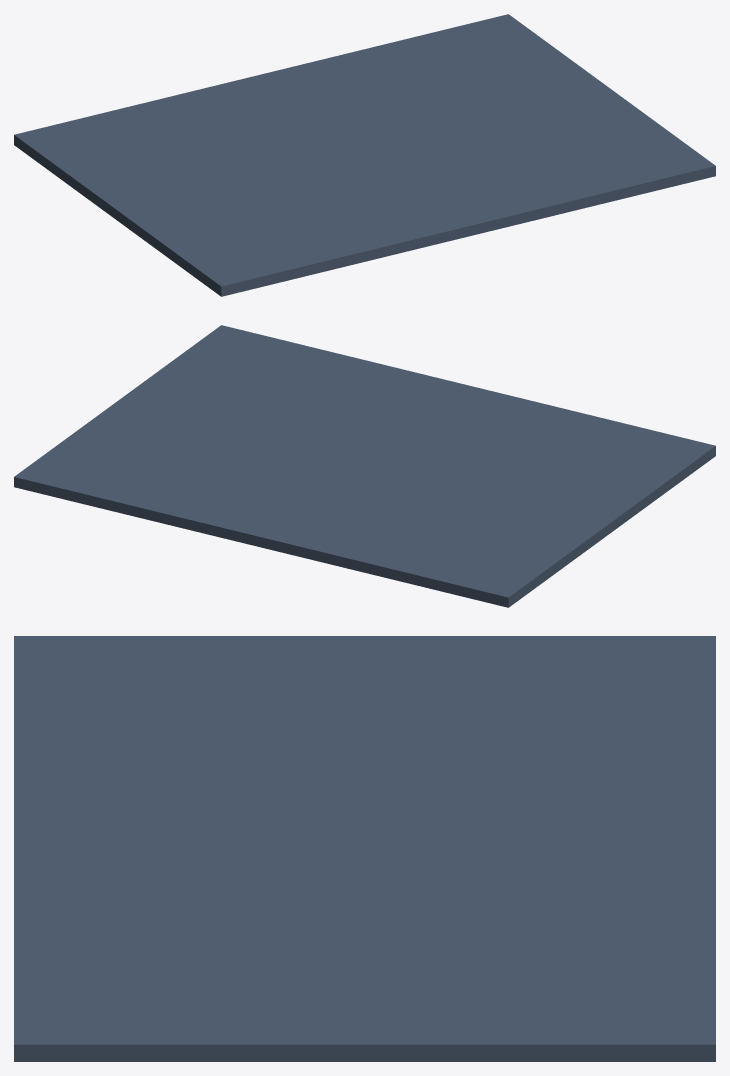
The model's file is floor_006_f_4c05fe0b5b.obj.
3 renders of one model, top to bottom at view 1: azimuth 30°, elevation 25°; view 2: azimuth 150°, elevation 25°; view 3: azimuth 270°, elevation 25°, orthographic. The views are drawn at different scales.
Parts seen in each view (by area): view 1: Floor_006_f_4c05fe0b5b; view 2: Floor_006_f_4c05fe0b5b; view 3: Floor_006_f_4c05fe0b5b.
Boxes of the visible parts, box(x1,y1,x2,y2) form: Floor_006_f_4c05fe0b5b: box(14, 14, 715, 296); Floor_006_f_4c05fe0b5b: box(14, 325, 715, 607); Floor_006_f_4c05fe0b5b: box(14, 636, 715, 1061).
Size of the model in its own units: 10.05 by 0.2 by 7.3.
